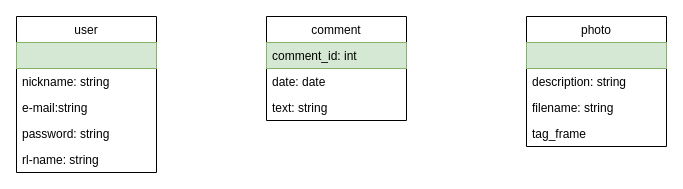
Some shapes in this 683 by 189 pixel diagram are drawn without their labels. The box of each missing label's shape, as (x1, y1, x2, y2) in pixels:
photo_id: int: (526, 42, 666, 68)
user_id: int: (16, 42, 156, 68)
